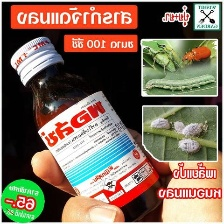insecticide: (8, 33, 168, 223)
